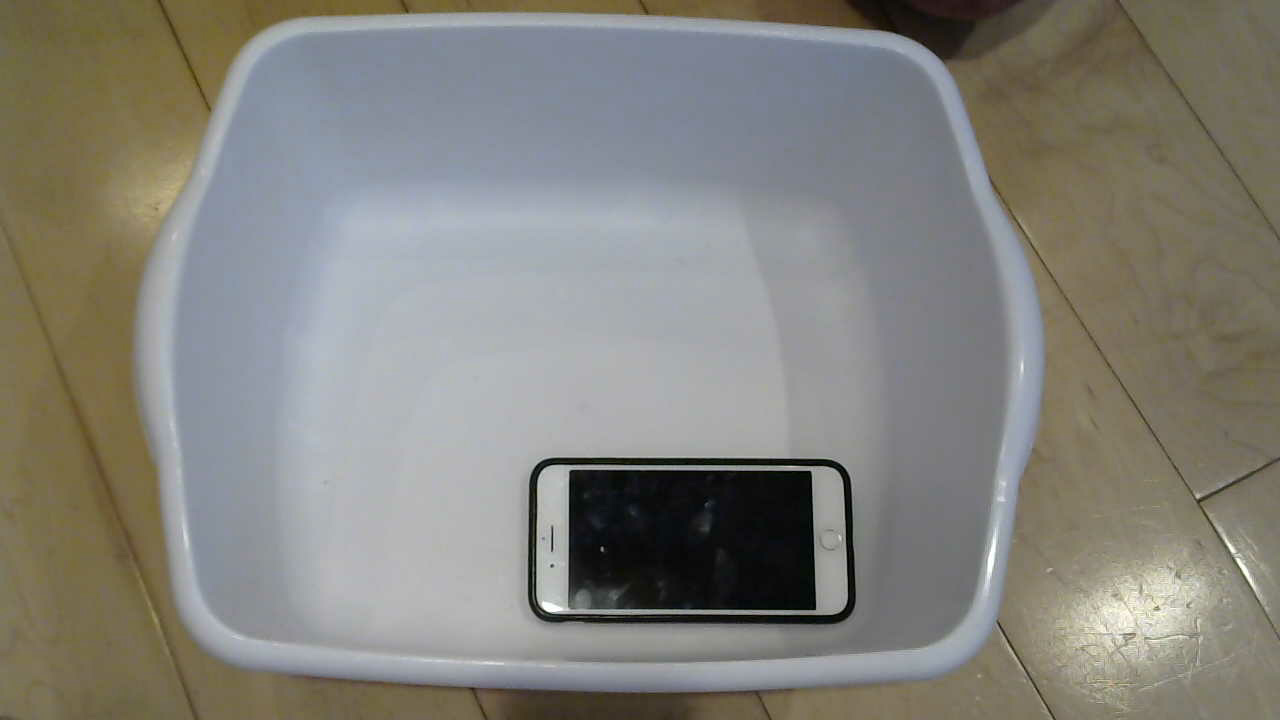phone: (510, 446, 884, 639)
